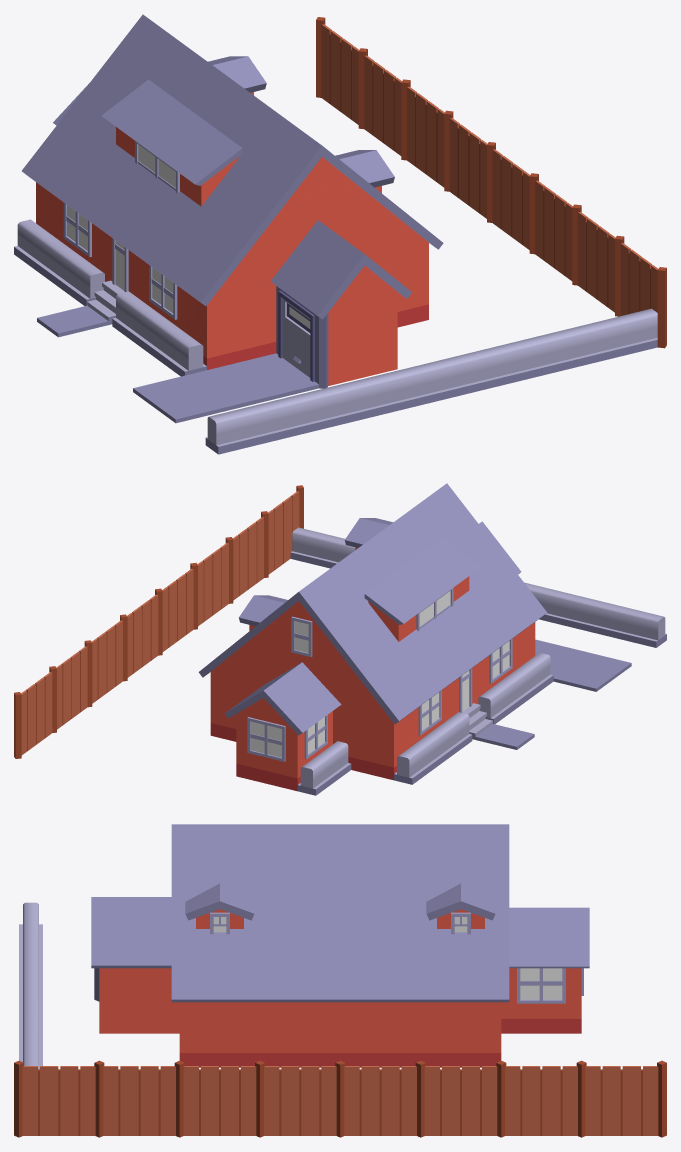
The model's file is House_004.fbx.
3 renders of one model, top to bottom at view 1: azimuth 30°, elevation 25°; view 2: azimuth 150°, elevation 25°; view 3: azimuth 270°, elevation 25°, orthographic. The views are drawn at different scales.
Visible parts, largest first — view 1: mergedBlocks; view 2: mergedBlocks; view 3: mergedBlocks.
Boxes of the visible parts, x1=… form: mergedBlocks: x1=14, y1=14, x2=666, y2=454; mergedBlocks: x1=14, y1=483, x2=666, y2=795; mergedBlocks: x1=14, y1=824, x2=666, y2=1137.
Size of the model in its own units: 303 by 132 by 406.
